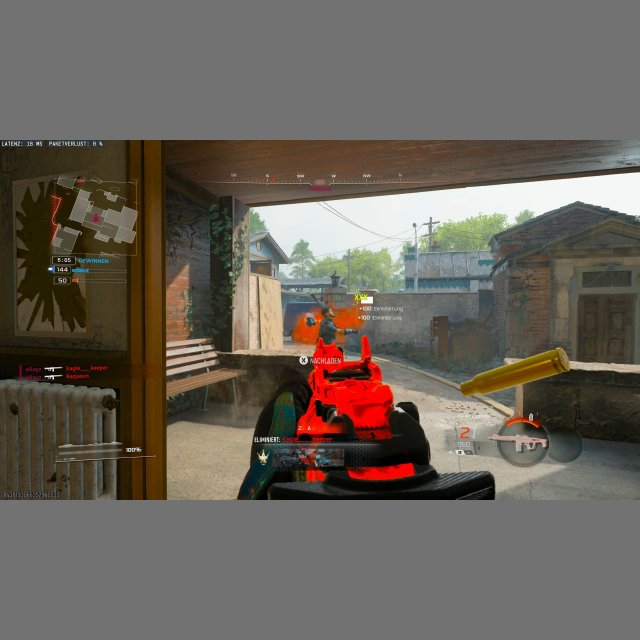head: (325, 309, 335, 319)
player: (317, 309, 339, 346)
